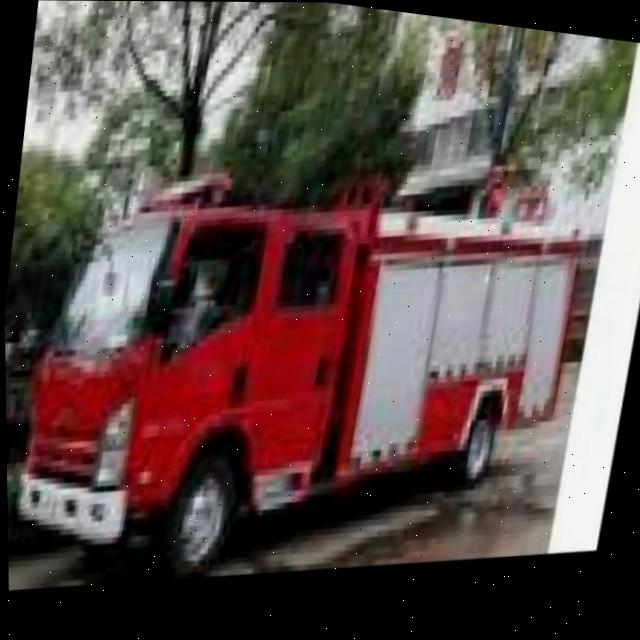emergency: (1, 112, 610, 626)
